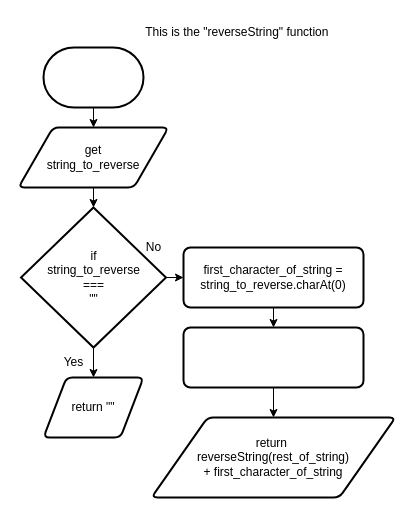
Some shapes in this 413 by 515 pixel diagram are drawn without their labels. The centre of each missing label's shape, as x and y in pixels:
rest_of_string = string_to_reverse.substring(1): (273,357)
Start: (93,77)
